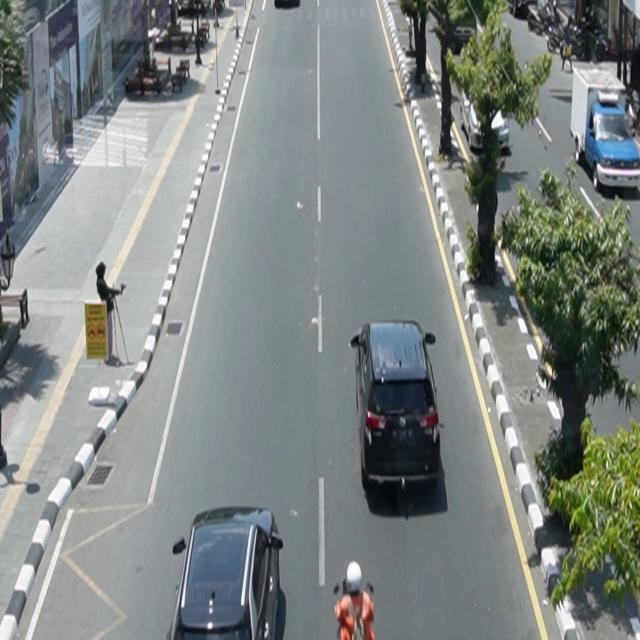car: (351, 320, 442, 494), (168, 507, 285, 640), (461, 87, 511, 155)
truck: (571, 66, 640, 193)
